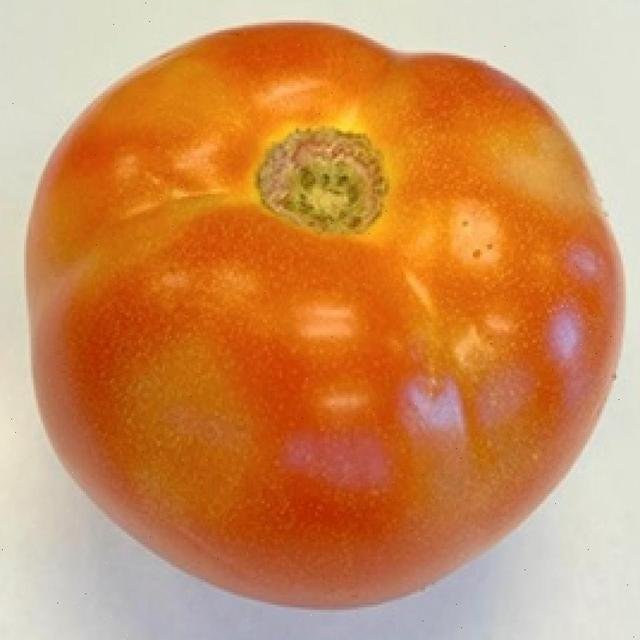Spotted wilt Virus Fruit: (120, 210, 437, 586)
